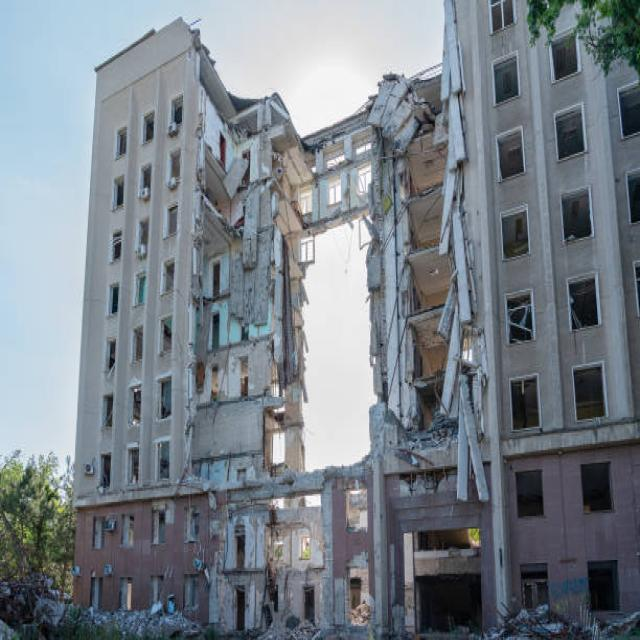broken_window: (559, 185, 593, 243), (499, 204, 529, 260), (490, 52, 520, 105)
building: (70, 14, 318, 634)
